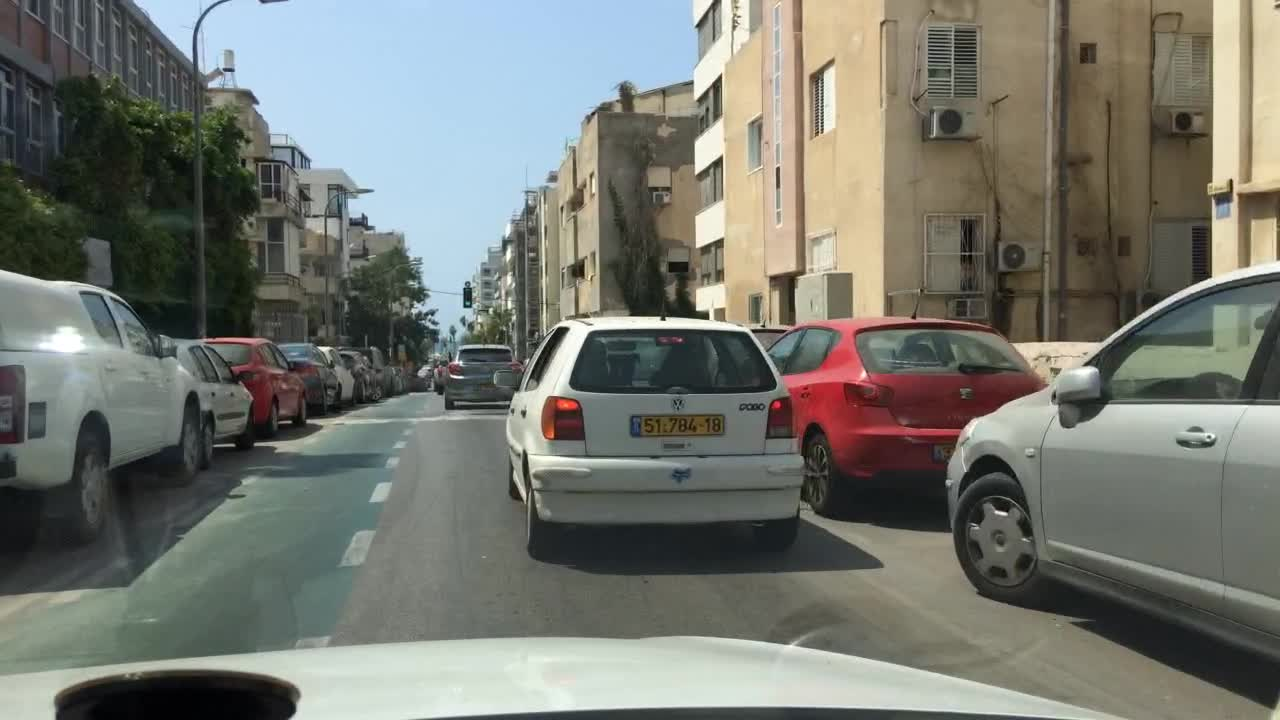car: (946, 260, 1278, 661), (490, 314, 802, 551), (766, 296, 1043, 515), (0, 269, 204, 546), (159, 336, 257, 467), (194, 335, 311, 437), (442, 342, 520, 407), (276, 341, 343, 413), (314, 344, 361, 407), (337, 345, 382, 399), (745, 320, 793, 356), (361, 347, 394, 398), (430, 359, 450, 395), (388, 360, 412, 390), (415, 371, 427, 389), (421, 363, 436, 375), (427, 354, 441, 366)
traffic light: (462, 280, 472, 308)
